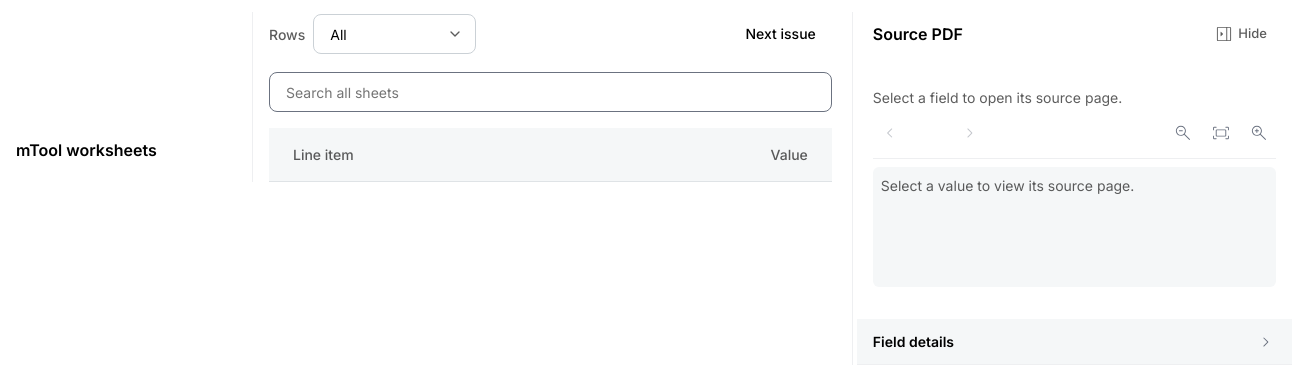
it: ConceptsPage › cross-template search finds concept in other template
The width and height of the screenshot is (1304, 382).
Type "Revenue" into the search field labelled "Search".
click(550, 92); type("Revenue")  # box [269,72,832,112]
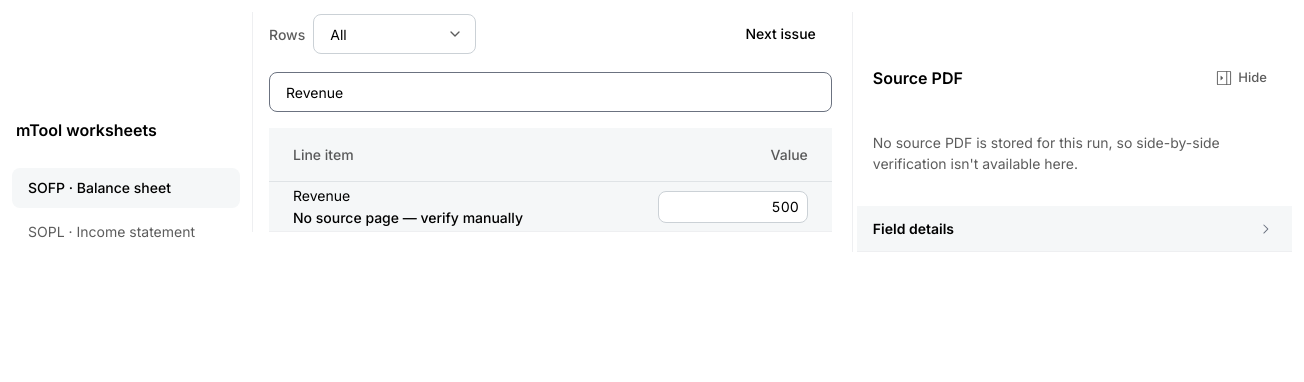
Expected: the list item with test id "concept-row-leaf-2" is shown, [269,182,832,232]
Clear the search field named "Search" at x=550, y=92, box [269,72,832,112]
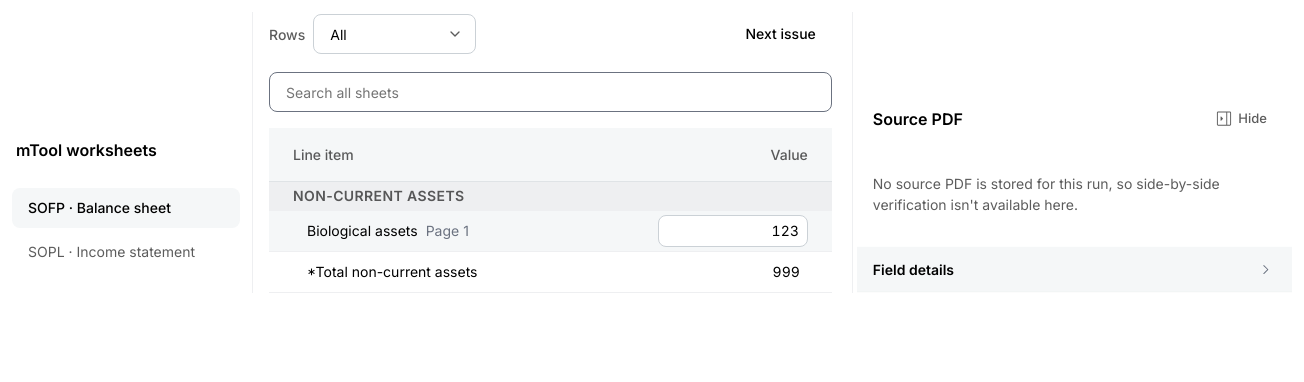
Expected: the list item with test id "concept-row-leaf-1" is shown, [269,211,832,252]
Expected: the list item with test id "concept-row-leaf-2" is gone
